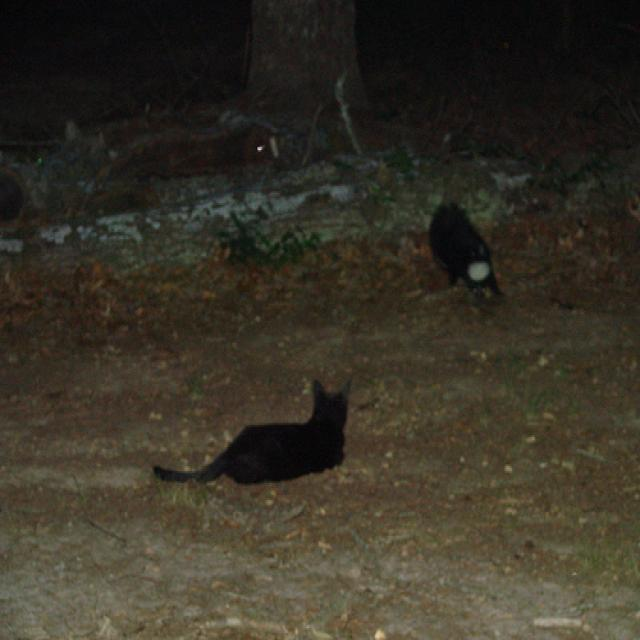Cat: (145, 360, 365, 513), (418, 189, 507, 324)
